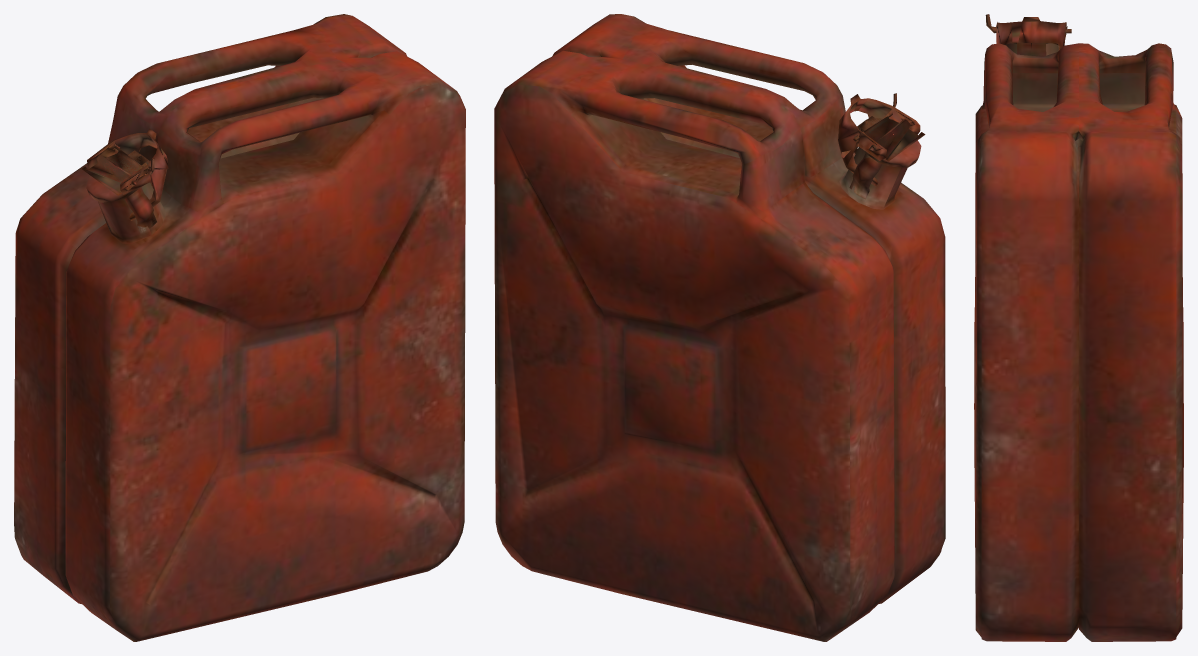
The model's file is p_metal_jerrycan.glb.
3 renders of one model, left to right at view 1: azimuth 30°, elevation 25°; view 2: azimuth 150°, elevation 25°; view 3: azimuth 270°, elevation 25°, orthographic. The views are drawn at different scales.
Visible parts, largest first — view 1: metal_jerrycan; view 2: metal_jerrycan; view 3: metal_jerrycan.
Part boxes in pixels (bbox=[...]): metal_jerrycan: bbox=[14, 14, 465, 641]; metal_jerrycan: bbox=[494, 14, 945, 641]; metal_jerrycan: bbox=[974, 14, 1183, 641].
Bounding box in the file's own units: 0.3489 × 0.4548 × 0.1717.
Materials: 1 (1 with a texture image).
